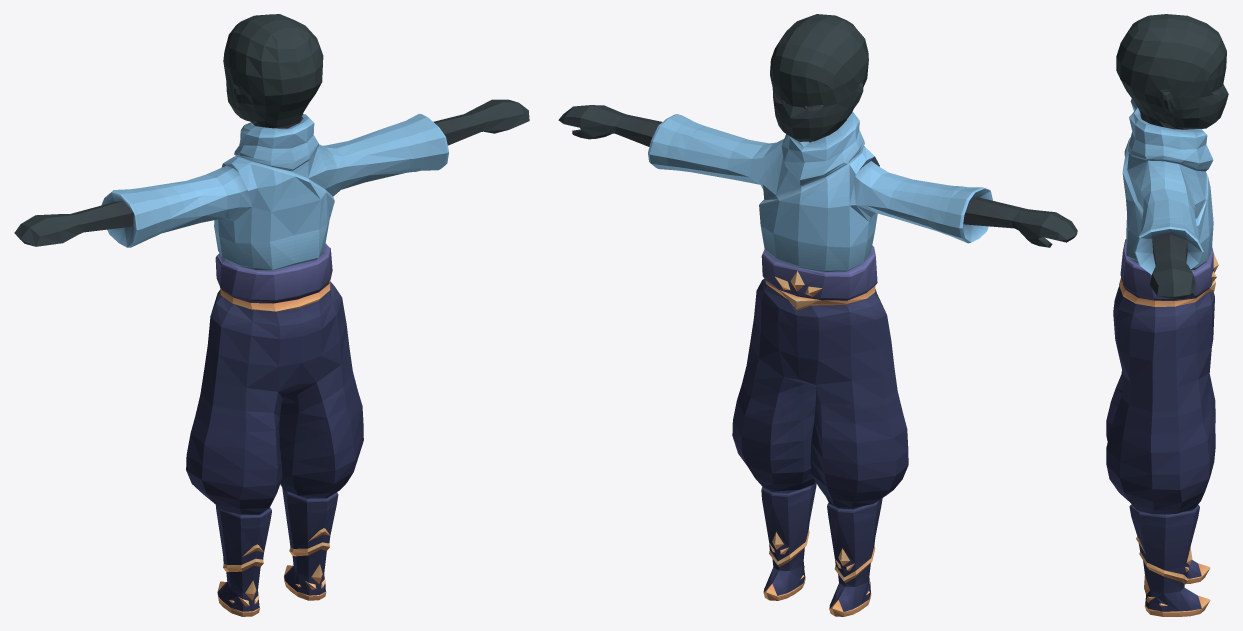
The model's file is CharSkyKid_Body_APDancerPants_01.glb.
The picture shows the model from 3 angles, left to right: view 1: azimuth 30°, elevation 25°; view 2: azimuth 150°, elevation 25°; view 3: azimuth 270°, elevation 25°; orthographic projection.
Parts seen in each view (by area): view 1: CharSkyKid_Body_APDancerPants_01; view 2: CharSkyKid_Body_APDancerPants_01; view 3: CharSkyKid_Body_APDancerPants_01.
Part boxes in pixels (bbox=[...]): CharSkyKid_Body_APDancerPants_01: bbox=[14, 14, 529, 616]; CharSkyKid_Body_APDancerPants_01: bbox=[558, 14, 1077, 616]; CharSkyKid_Body_APDancerPants_01: bbox=[1106, 14, 1228, 616].
Bounding box in the file's own units: 13.83 × 14.93 × 2.88.
Materials: 1 (1 with a texture image).
